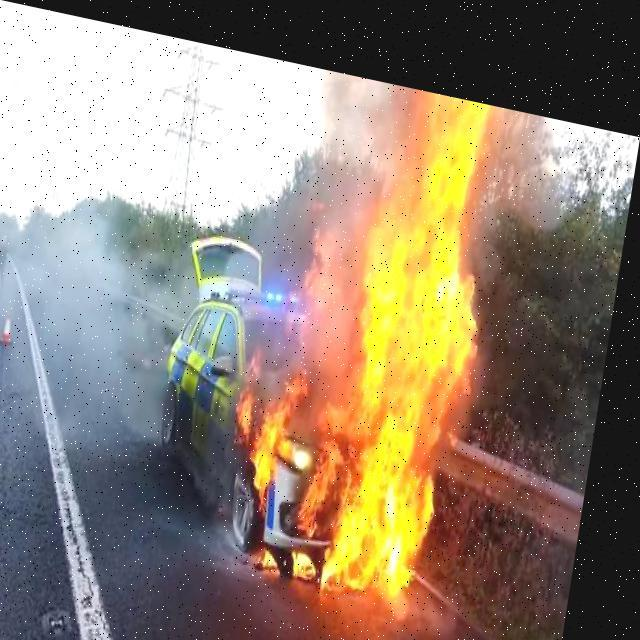Fire: (246, 56, 508, 593)
